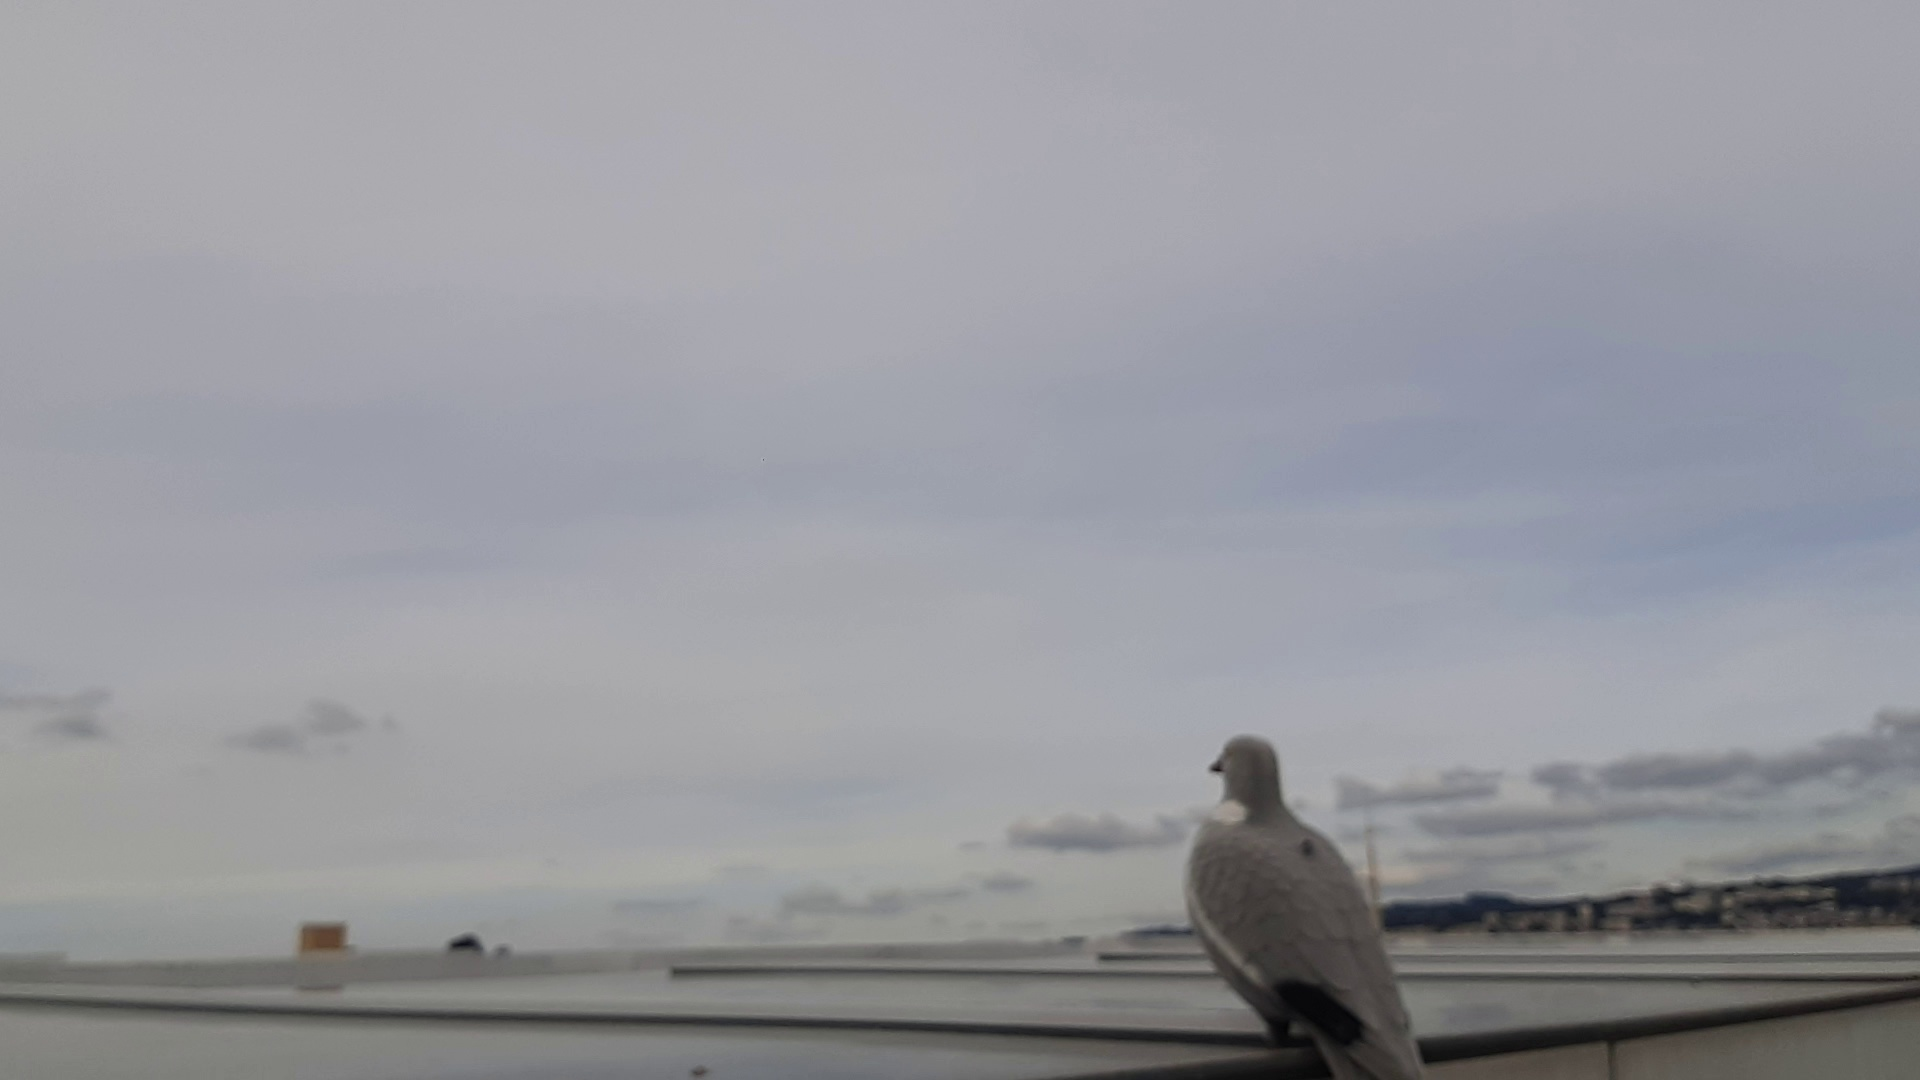Pigeon: (1185, 723, 1427, 1080)
